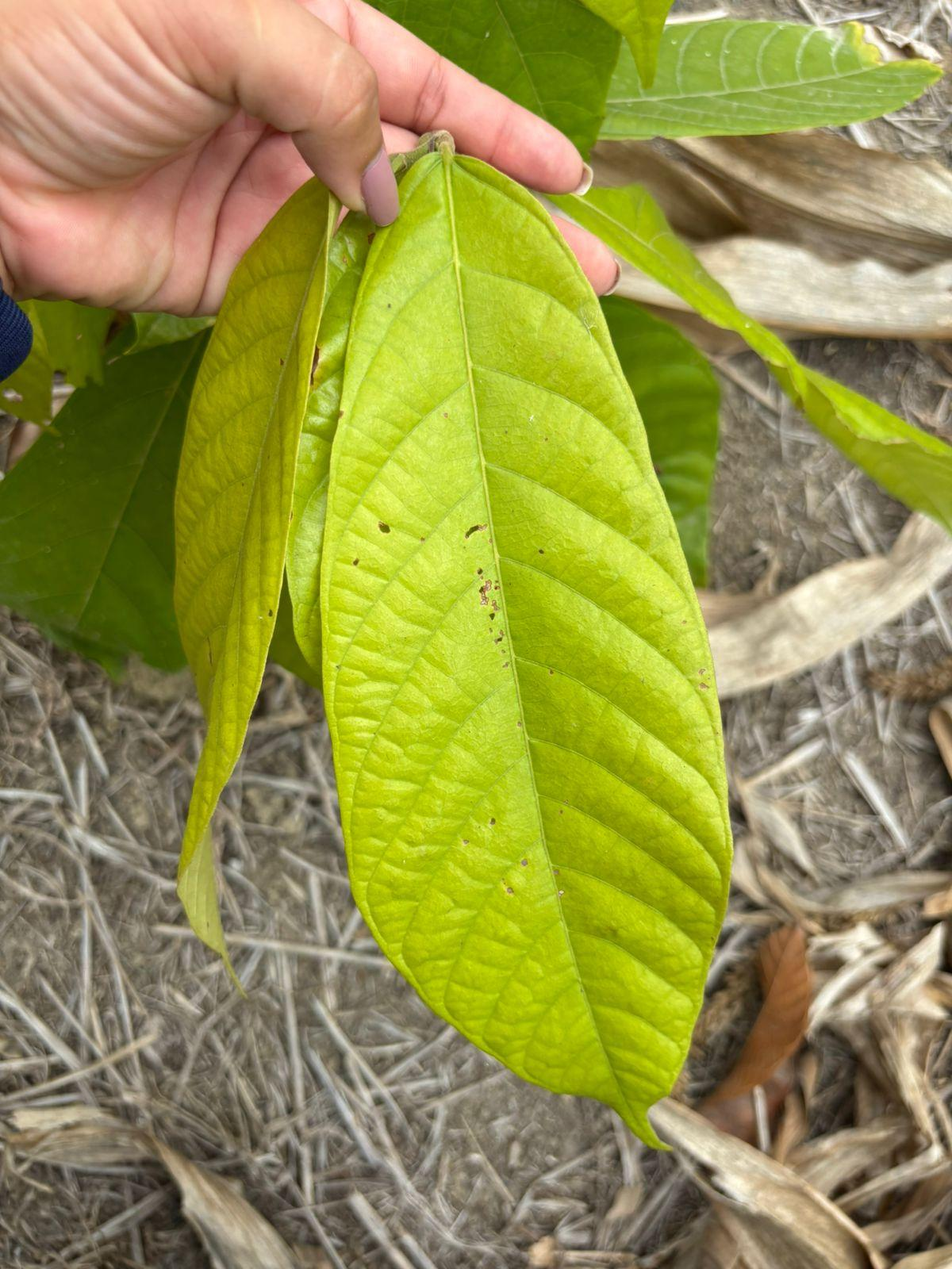deficiencia_nitrogeno: (322, 147, 729, 1143), (175, 179, 339, 961)
